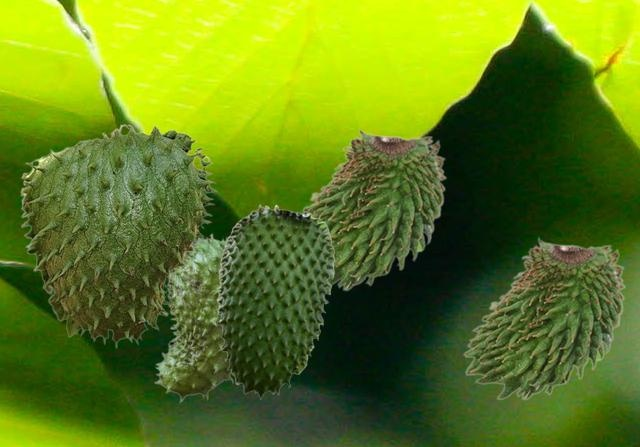guyabano: (20, 123, 217, 348), (462, 236, 625, 399), (302, 127, 446, 290), (216, 204, 334, 398), (153, 232, 233, 402)
